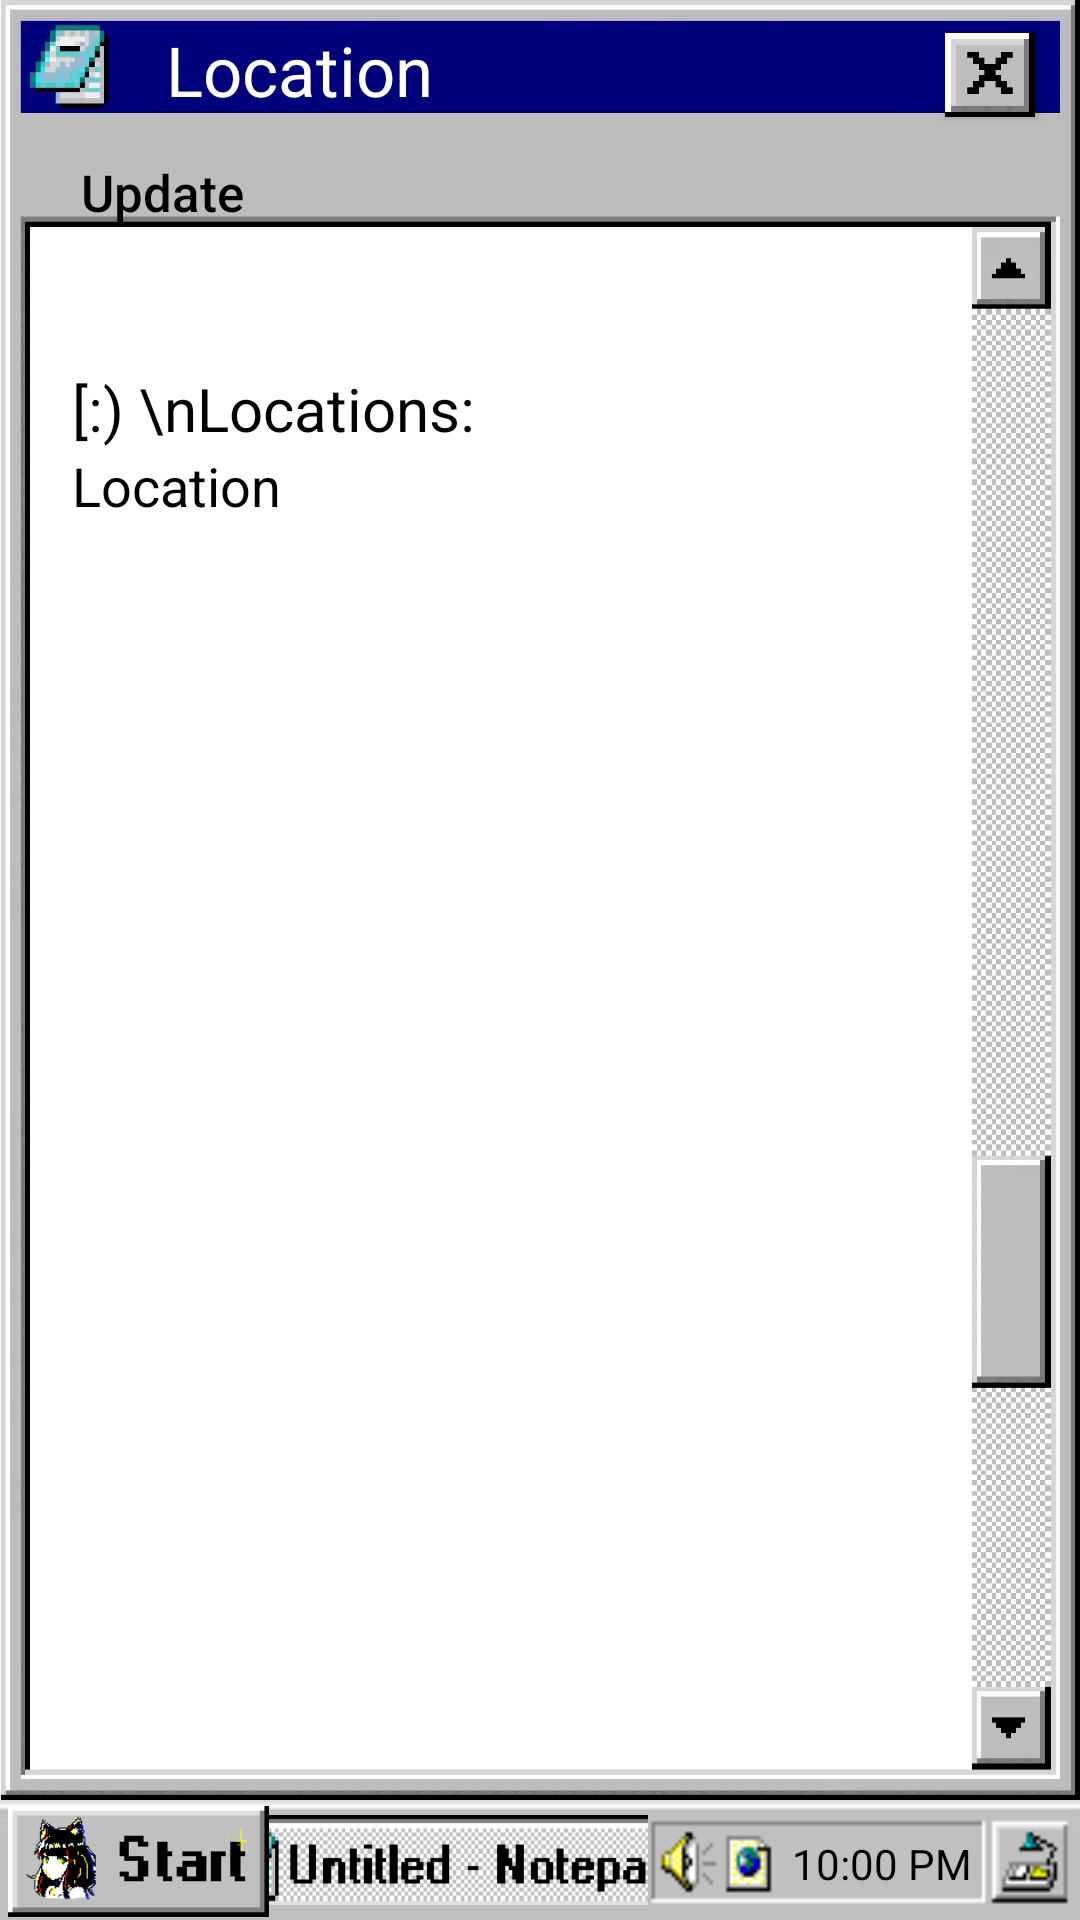

Screen size 1080w x 1920h. Icon name, then its center in pixels as (x=x, y=y):
exit: (x=990, y=75)
